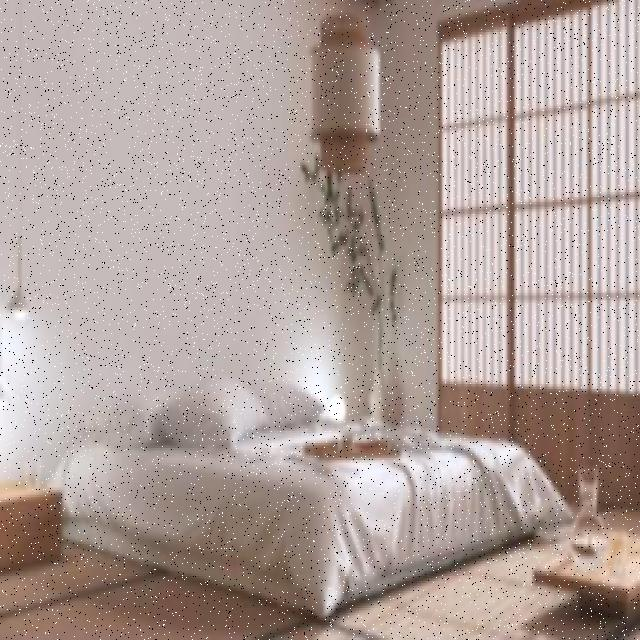bed: (85, 359, 553, 572)
